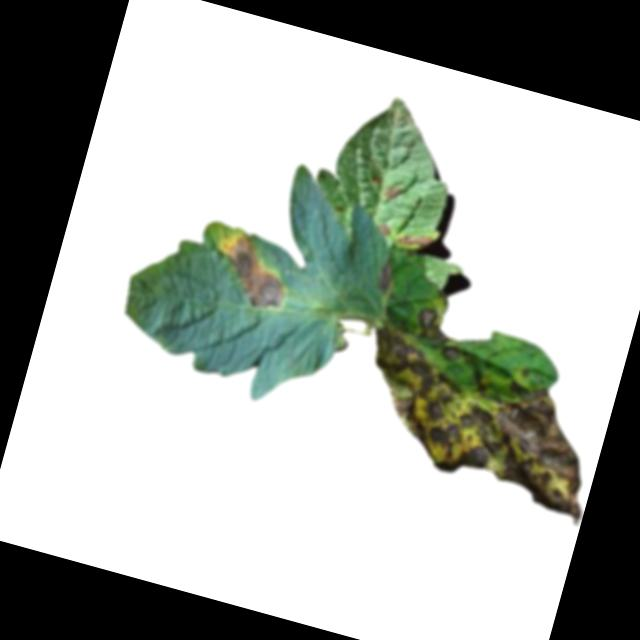Early_blight: (339, 326, 612, 525), (208, 226, 303, 317), (412, 303, 468, 350), (395, 228, 437, 252), (373, 261, 399, 294), (381, 177, 406, 202), (375, 222, 393, 238)
